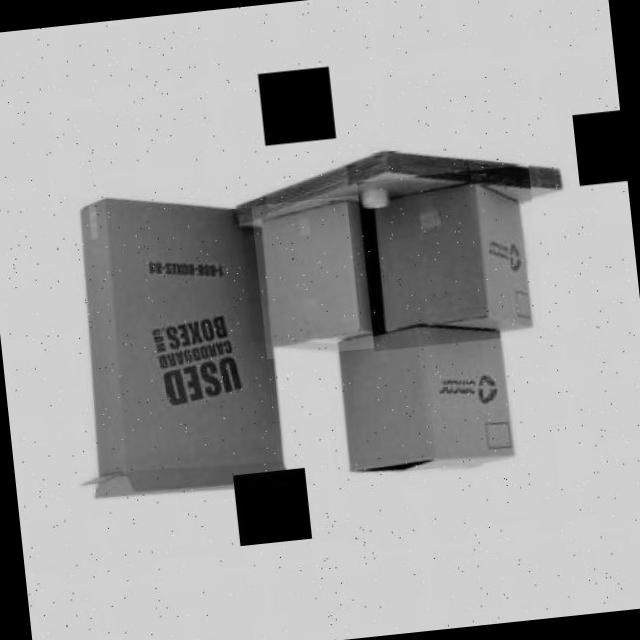box: (53, 172, 297, 528), (326, 301, 521, 484), (356, 163, 546, 350), (251, 194, 384, 358)
